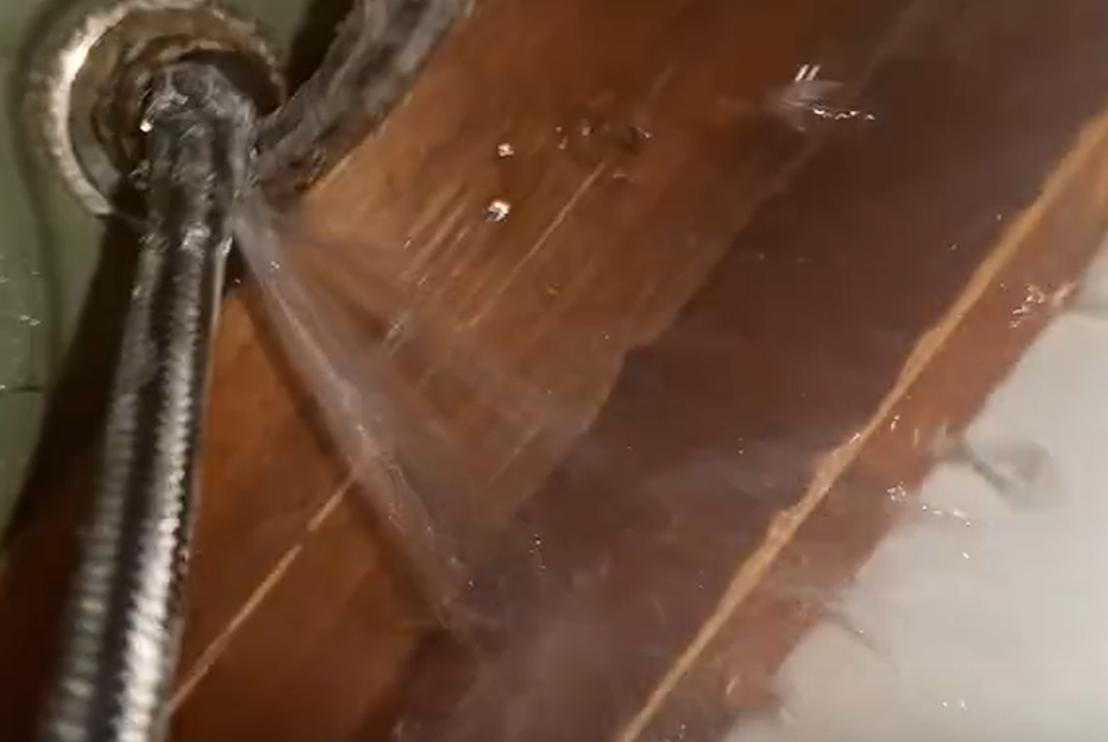pipe burst: (221, 195, 638, 663)
